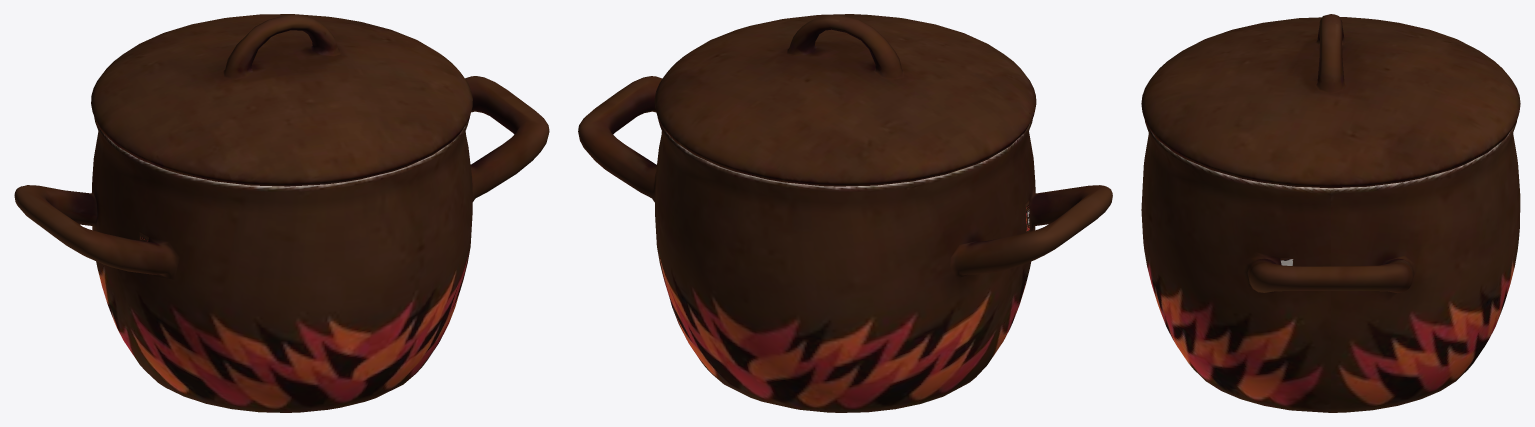
The model's file is pot_enamel_01.glb.
The picture shows the model from 3 angles, left to right: view 1: azimuth 30°, elevation 25°; view 2: azimuth 150°, elevation 25°; view 3: azimuth 270°, elevation 25°; orthographic projection.
Visible parts, largest first — view 1: pot_enamel_01_lid; view 2: pot_enamel_01_lid; view 3: pot_enamel_01_lid.
Boxes of the visible parts, bbox=[...] form: pot_enamel_01_lid: bbox=[14, 14, 549, 412]; pot_enamel_01_lid: bbox=[578, 14, 1112, 412]; pot_enamel_01_lid: bbox=[1141, 14, 1520, 412].
Size of the model in its own units: 0.2627 by 0.1782 by 0.1805.
1 material, 1 textured.
